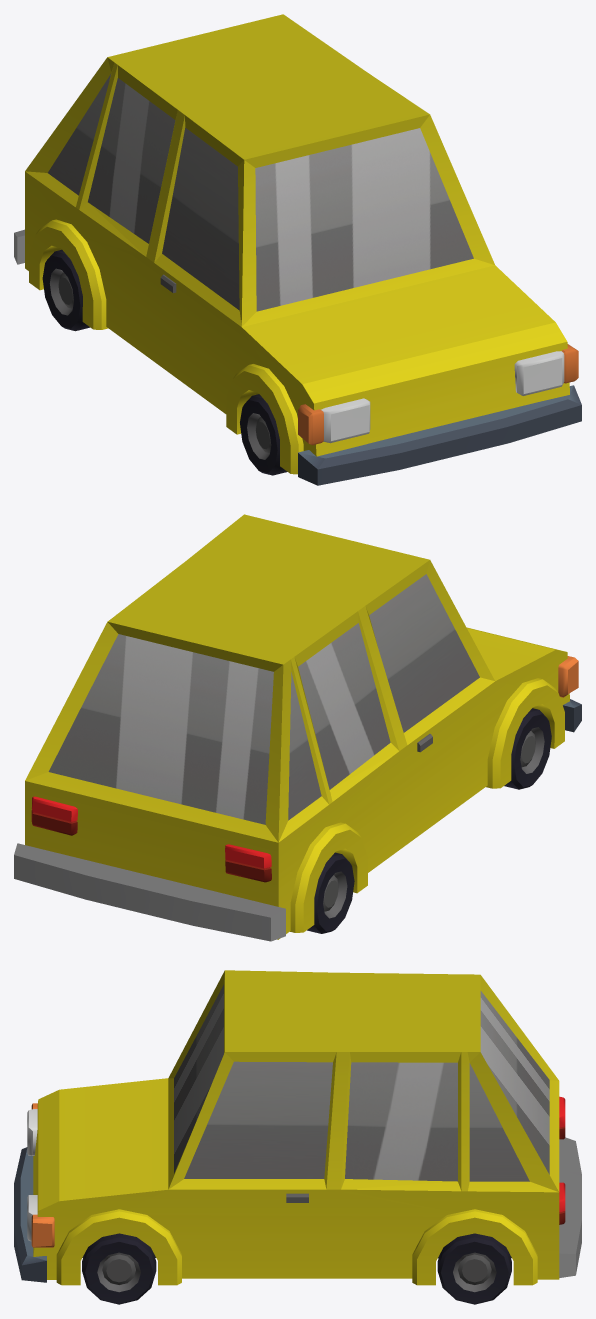
File: Car_1_6.fbx
The picture shows the model from 3 angles, top to bottom: view 1: azimuth 30°, elevation 25°; view 2: azimuth 150°, elevation 25°; view 3: azimuth 270°, elevation 25°; orthographic projection. The views are drawn at different scales.
Visible parts, largest first — view 1: Car_1_6, Wheel_Br, Wheel_Fr; view 2: Car_1_6, Wheel_Fr, Wheel_Br; view 3: Car_1_6, Wheel_Fl, Wheel_Bl.
Boxes of the visible parts, x1,y1,x2,y2 form: Car_1_6: [14, 14, 581, 485]; Wheel_Br: [42, 249, 89, 331]; Wheel_Fr: [240, 394, 287, 475]; Car_1_6: [14, 514, 581, 941]; Wheel_Fr: [504, 708, 551, 789]; Wheel_Br: [307, 852, 354, 933]; Car_1_6: [14, 970, 581, 1285]; Wheel_Fl: [82, 1233, 156, 1304]; Wheel_Bl: [437, 1233, 511, 1304].
Size of the model in its own units: 1.05 by 0.9433 by 2.07.
